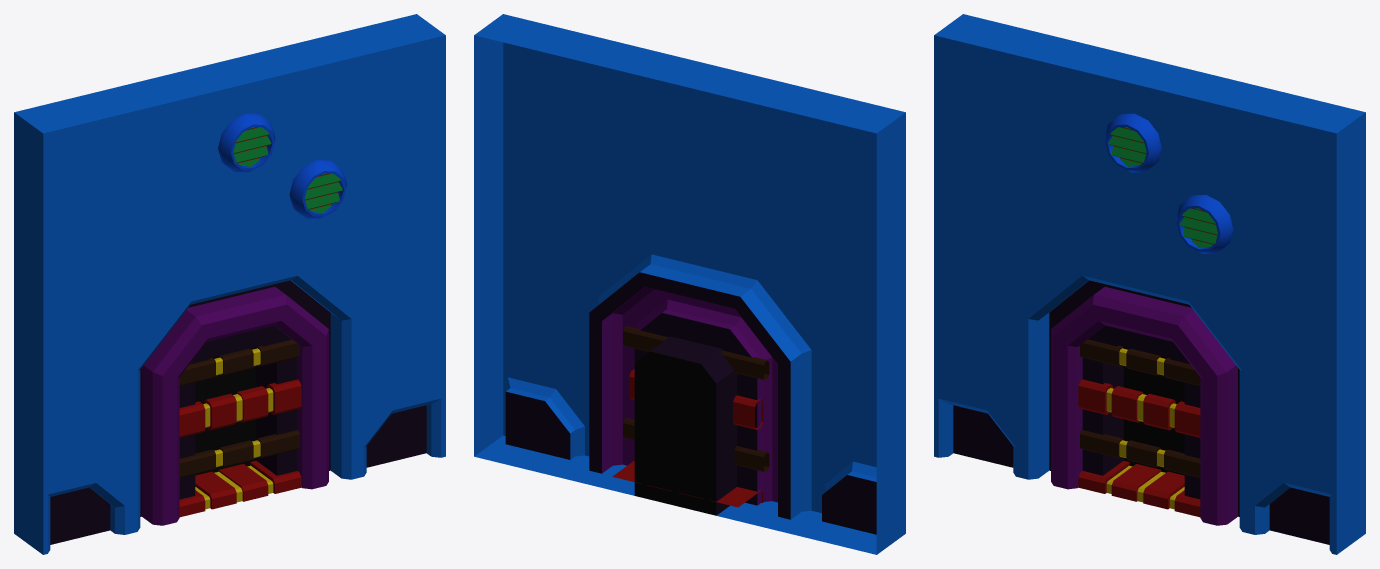
File: OBJ_Mur_1.fbx
3 renders of one model, left to right at view 1: azimuth 30°, elevation 25°; view 2: azimuth 150°, elevation 25°; view 3: azimuth 330°, elevation 25°, orthographic.
Visible parts, largest first — view 1: Mur_1; view 2: Mur_1; view 3: Mur_1.
Part boxes in pixels (box(x1,y1,x2,y2)): Mur_1: box(14, 14, 445, 554); Mur_1: box(474, 14, 905, 554); Mur_1: box(934, 14, 1365, 554).
Bounding box in the file's own units: 1600 × 1600 × 259.
